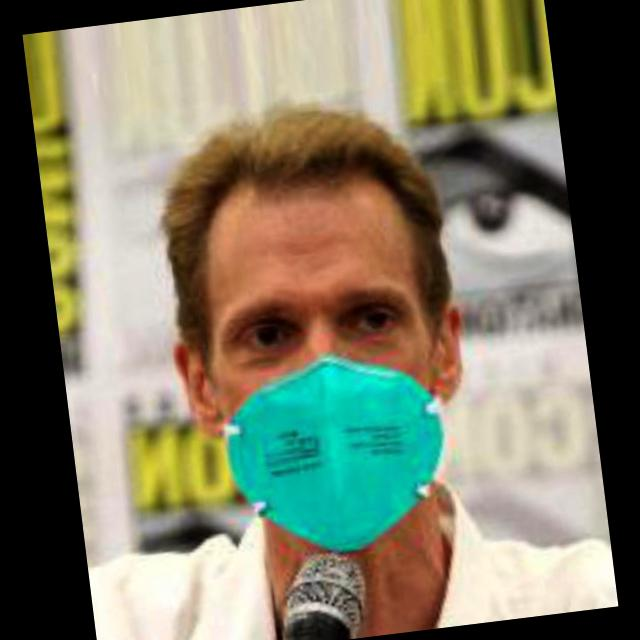suspicion: (86, 27, 528, 592)
